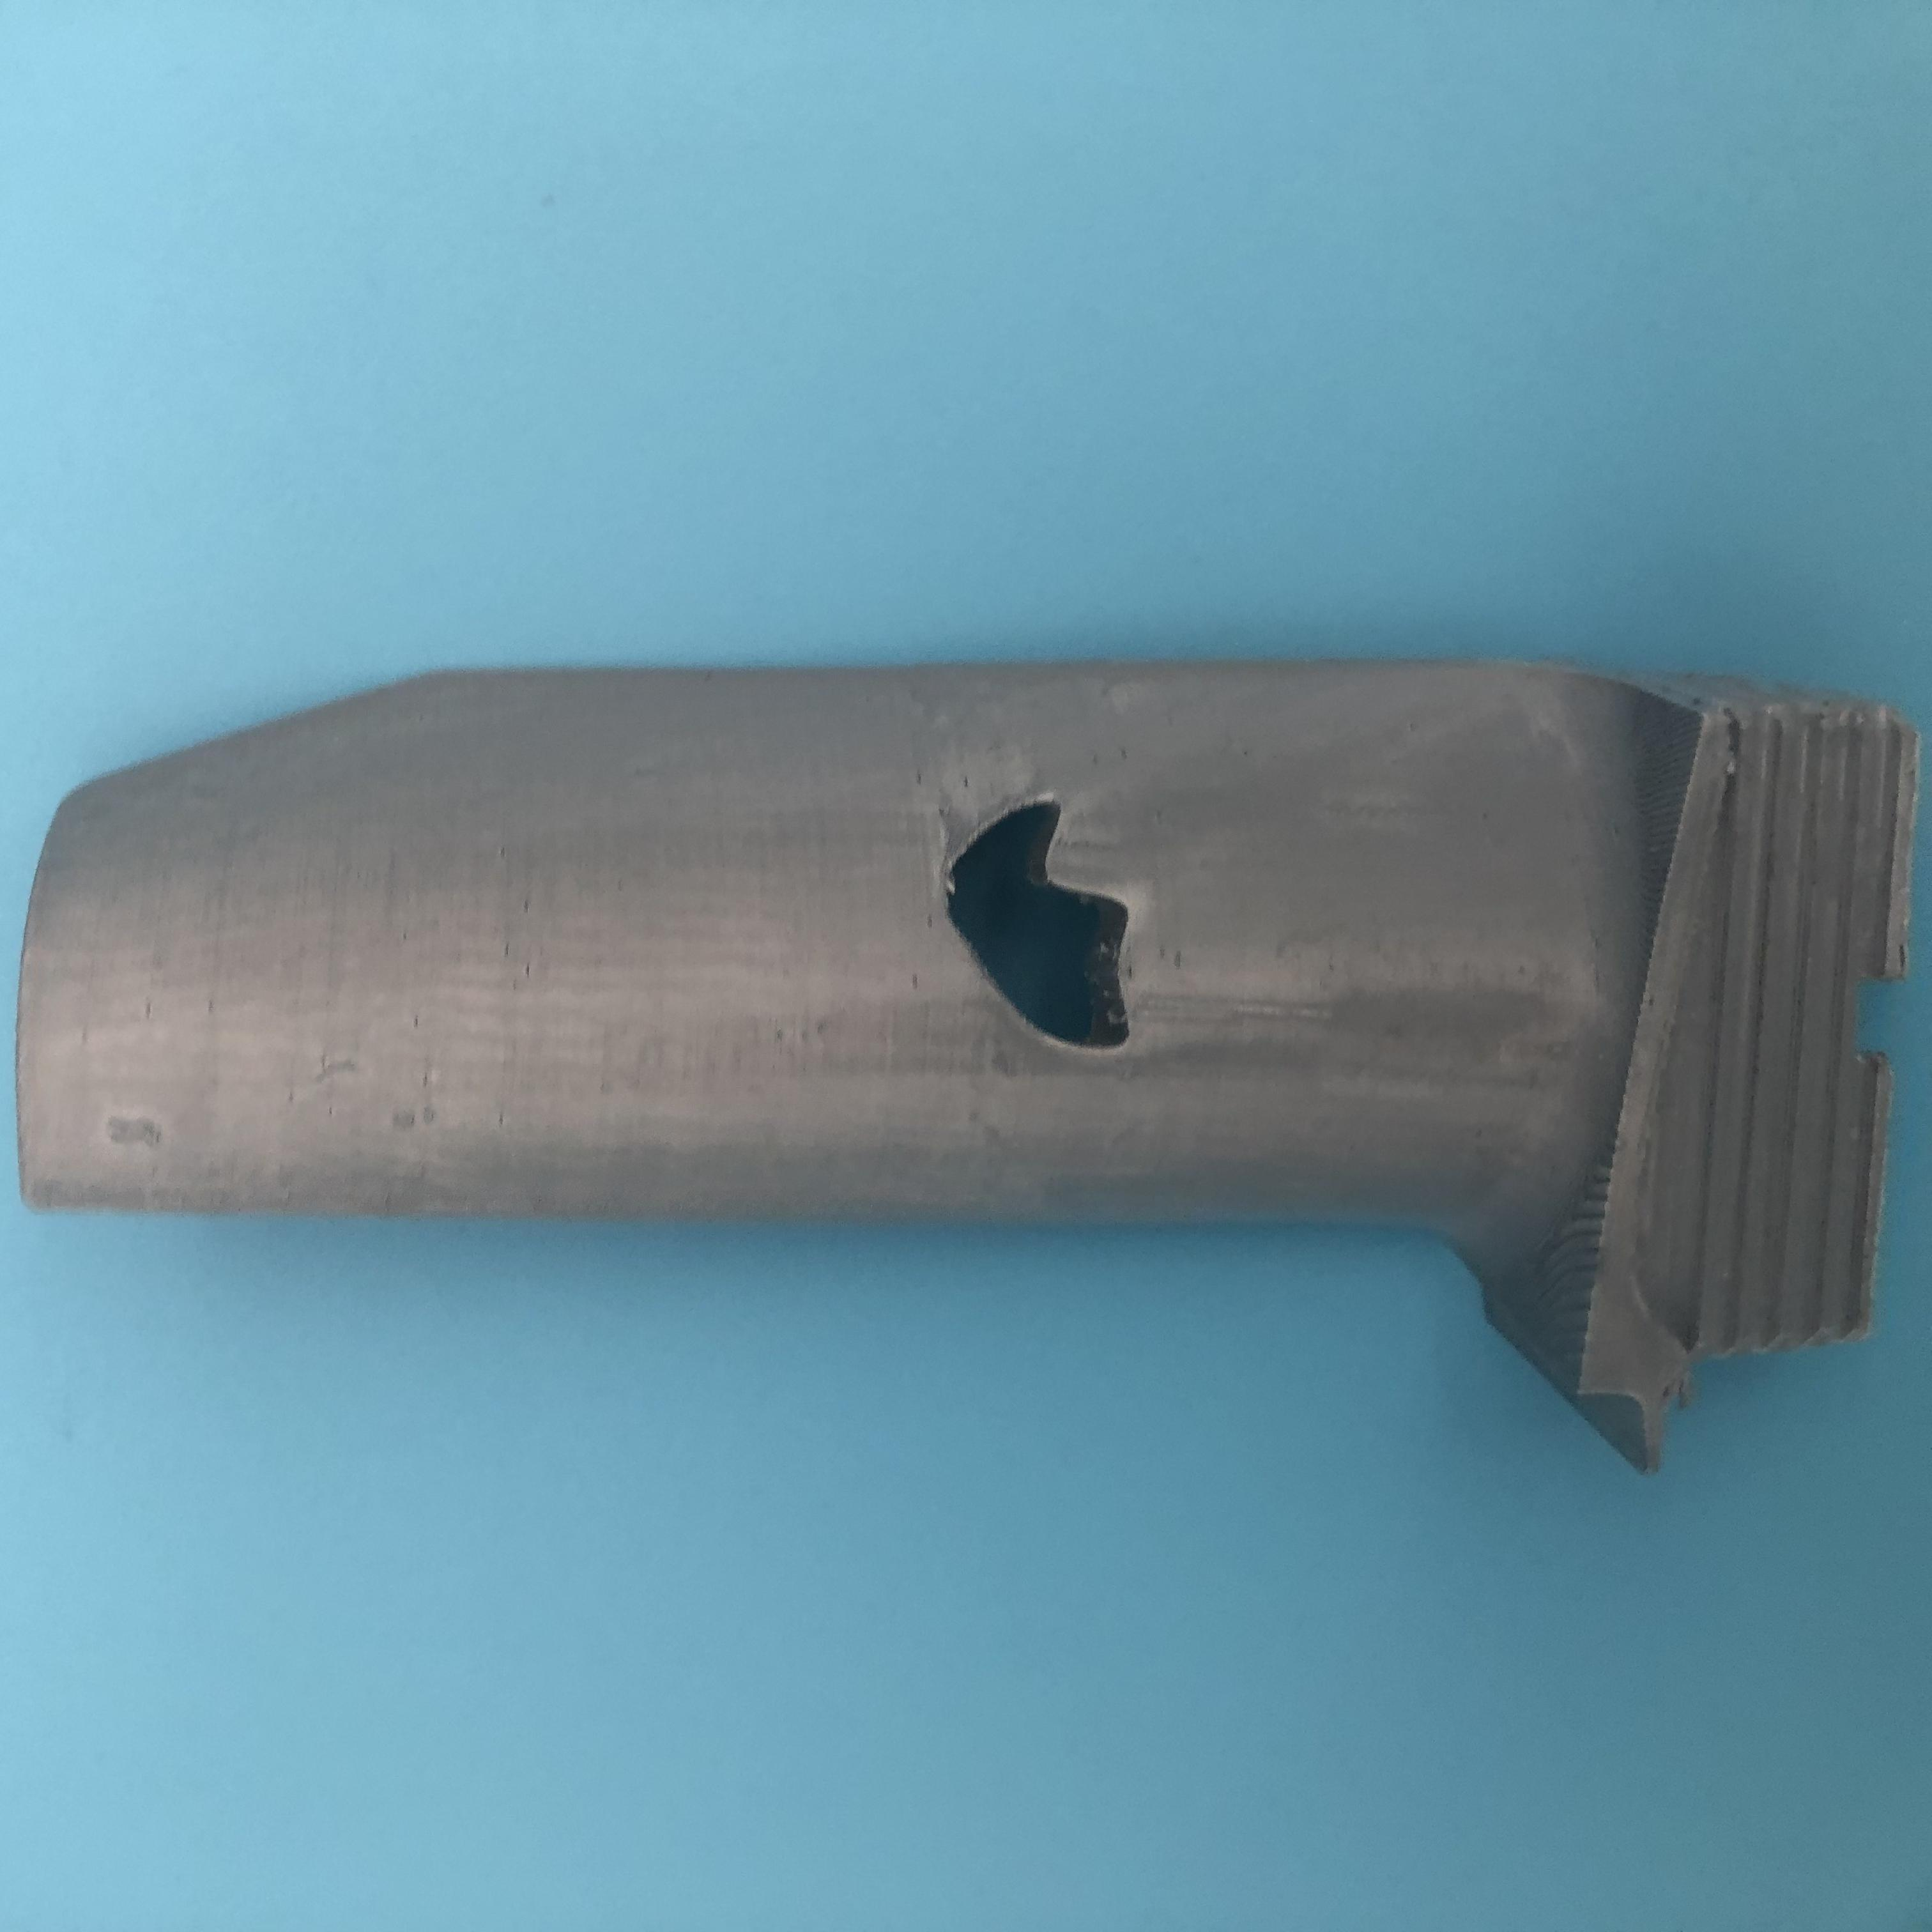breakdown: (941, 800, 1171, 1070)
